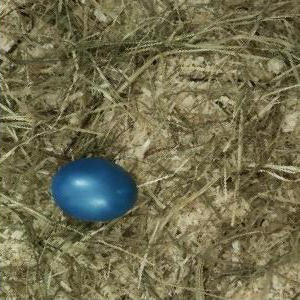egg: (52, 159, 138, 221)
